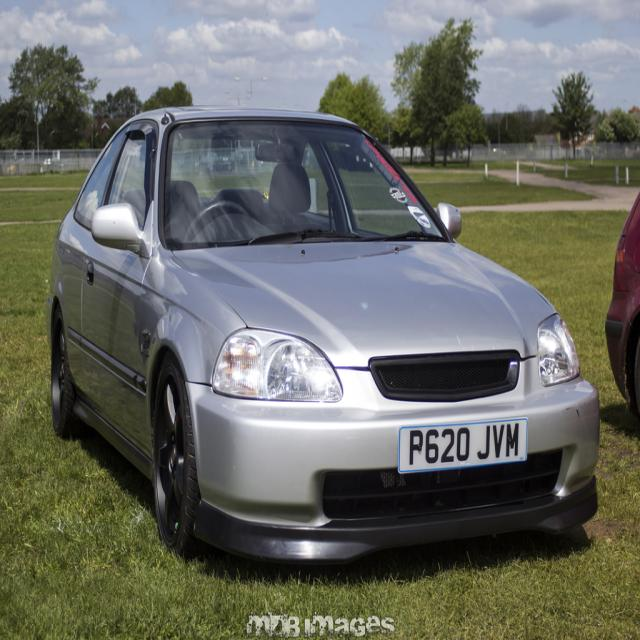car: (43, 113, 603, 582), (604, 188, 639, 425)
